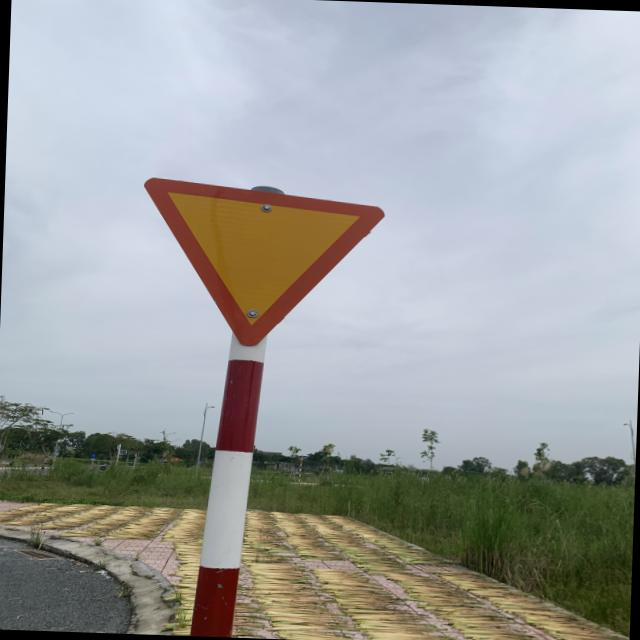Gioi_Han_Toc_Do_25: (139, 177, 389, 347)
